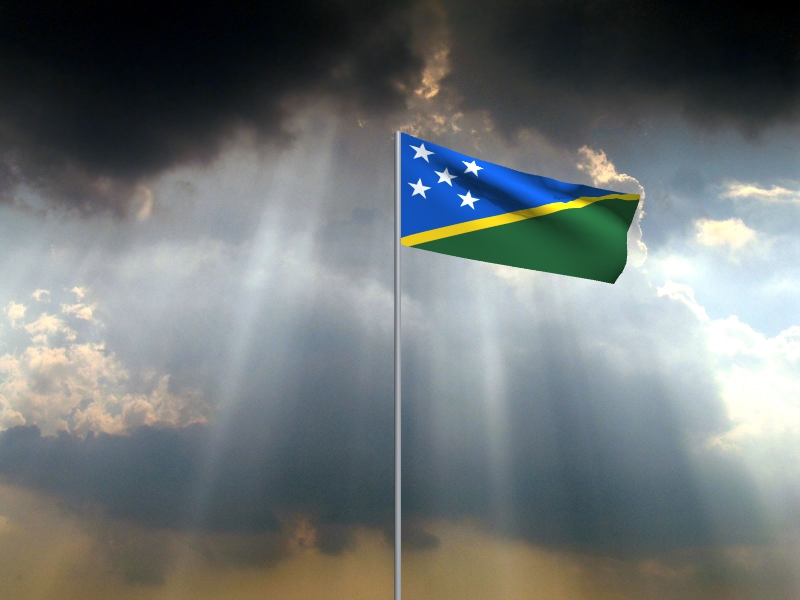sb: (402, 133, 641, 285)
